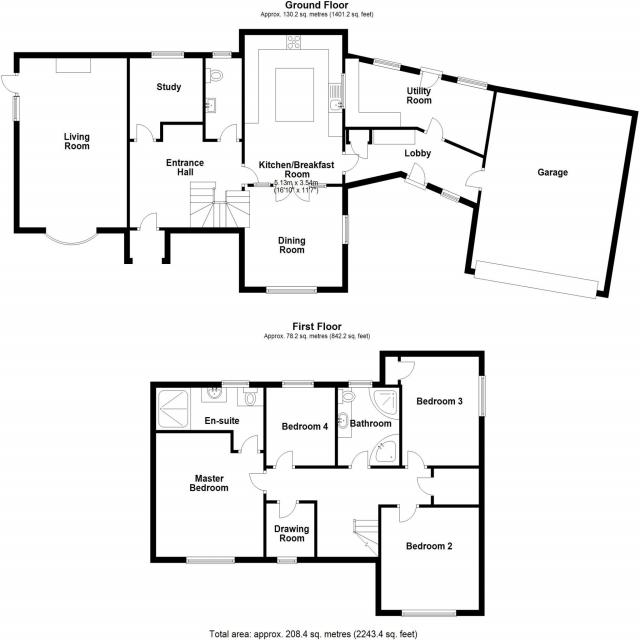DOOR: (407, 161, 426, 188), (425, 116, 444, 142), (418, 69, 441, 90), (463, 169, 485, 190), (398, 503, 418, 524), (241, 164, 260, 186), (350, 450, 370, 470), (1, 74, 20, 95), (278, 499, 297, 520), (407, 449, 426, 470), (397, 360, 416, 381), (416, 476, 435, 497), (136, 123, 155, 143), (139, 212, 158, 232), (219, 123, 238, 143), (341, 153, 360, 173), (350, 140, 369, 160), (240, 434, 259, 454), (275, 450, 294, 470), (248, 472, 267, 492)
ROOM: (1, 51, 131, 247), (237, 28, 362, 204), (149, 429, 268, 564), (375, 504, 485, 618), (238, 183, 349, 293), (397, 350, 487, 469), (126, 50, 206, 142), (262, 380, 338, 469), (263, 500, 318, 564)
WINDOW: (43, 233, 99, 246), (455, 75, 489, 91), (401, 609, 457, 618), (372, 56, 402, 72), (265, 285, 318, 294), (185, 556, 236, 564), (478, 374, 487, 418), (439, 188, 461, 204), (150, 51, 185, 59), (341, 214, 350, 245), (281, 380, 315, 388), (12, 95, 21, 122), (348, 380, 374, 389), (221, 380, 250, 388), (340, 72, 346, 110), (276, 556, 298, 565), (212, 51, 232, 59), (311, 182, 327, 189), (253, 182, 271, 188)
